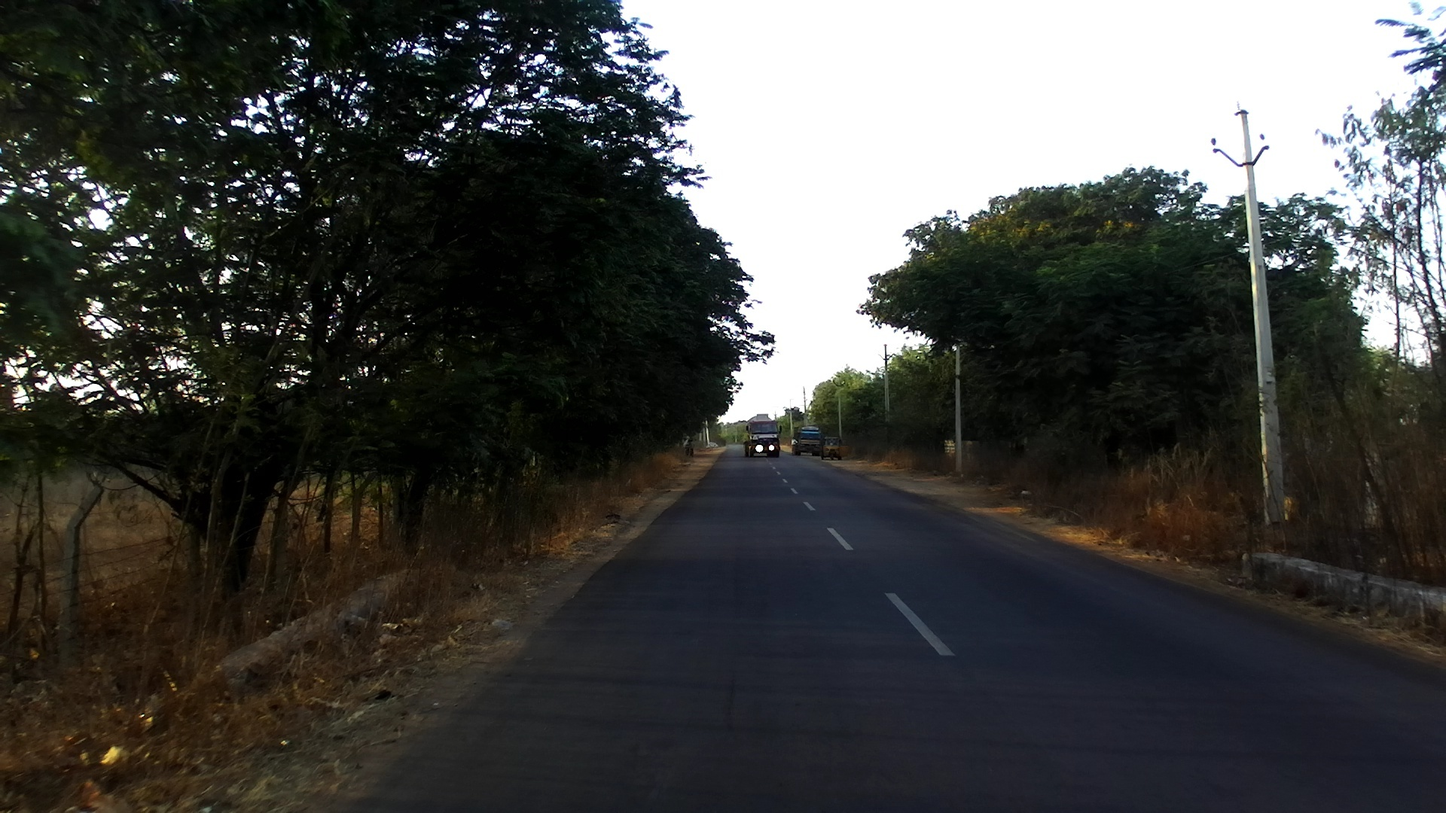autorickshaw: (816, 434, 851, 461)
person: (682, 436, 690, 454), (688, 437, 695, 457), (789, 437, 796, 455)
truck: (744, 415, 782, 458), (791, 425, 822, 456)
